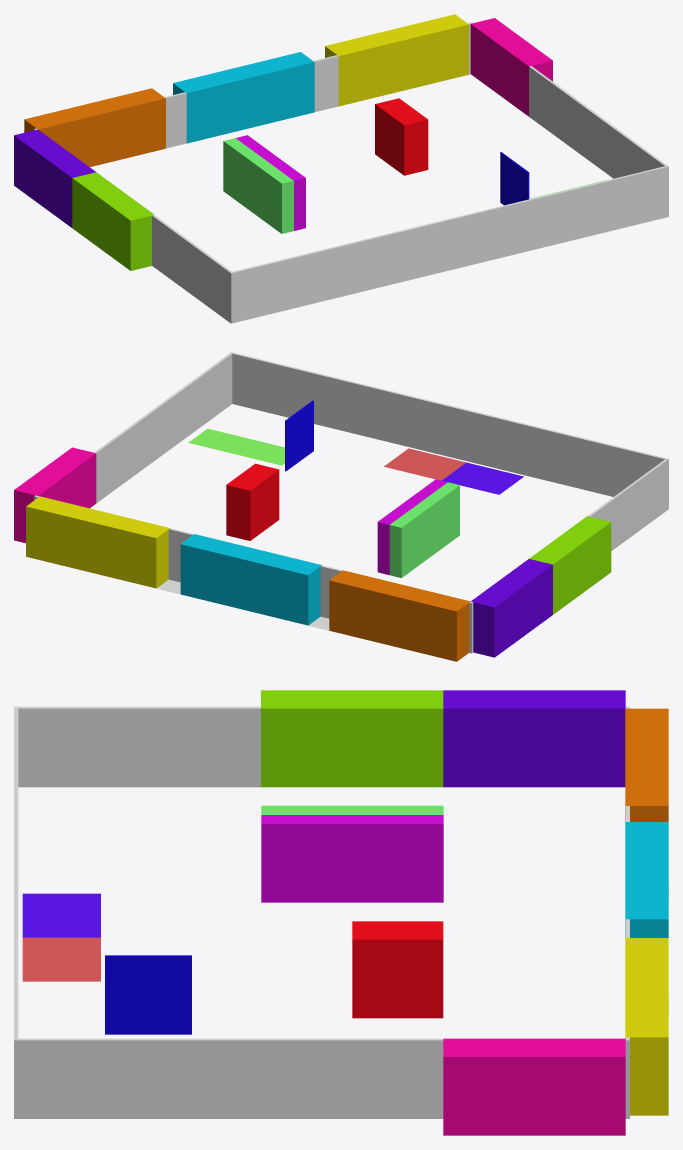
File: shop.dae
The picture shows the model from 3 angles, top to bottom: view 1: azimuth 30°, elevation 25°; view 2: azimuth 150°, elevation 25°; view 3: azimuth 270°, elevation 25°; orthographic projection. The views are drawn at different scales.
Visible parts, largest first — view 1: wall_south, section_vegetable, section_seafood, sectinon_meat, wall_east, section_electronics, wc, section_snacks, wall_west, section_refriger, section_beverage, wall_north (+2 smaller); view 2: wall_south, section_vegetable, sectinon_meat, section_seafood, wall_east, section_snacks, section_electronics, section_refriger, wc, wall_west, section_beverage, pinky_wait_section (+4 smaller); view 3: wall_east, wall_west, wc, section_electronics, section_snacks, section_frizer, section_beverage, section_vegetable, pinky_wait_section, divider, section_seafood, sectinon_meat (+2 smaller).
Boxes of the visible parts, left/top/right/bottom form: wall_south: left=232, top=166, right=666, bottom=322; section_vegetable: left=325, top=14, right=468, bottom=106; section_seafood: left=173, top=52, right=314, bottom=143; sectinon_meat: left=24, top=88, right=165, bottom=166; wall_east: left=469, top=22, right=668, bottom=217; section_electronics: left=72, top=172, right=154, bottom=270; wc: left=470, top=18, right=552, bottom=116; section_snacks: left=14, top=129, right=95, bottom=227; wall_west: left=34, top=128, right=233, bottom=323; section_refriger: left=223, top=138, right=293, bottom=233; section_beverage: left=375, top=98, right=428, bottom=175; wall_north: left=164, top=23, right=470, bottom=148; wall_south: left=232, top=353, right=665, bottom=496; section_vegetable: left=26, top=496, right=169, bottom=588; sectinon_meat: left=329, top=570, right=470, bottom=661; section_seafood: left=180, top=534, right=321, bottom=625; wall_east: left=34, top=352, right=233, bottom=503; section_snacks: left=471, top=559, right=552, bottom=657; section_electronics: left=529, top=516, right=611, bottom=614; section_refriger: left=389, top=482, right=459, bottom=577; wc: left=14, top=447, right=96, bottom=543; wall_west: left=469, top=458, right=668, bottom=653; section_beverage: left=226, top=463, right=279, bottom=540; pinky_wait_section: left=384, top=448, right=523, bottom=494; wall_east: left=14, top=1038, right=629, bottom=1118; wall_west: left=14, top=706, right=629, bottom=787; wc: left=443, top=1038, right=625, bottom=1135; section_electronics: left=261, top=690, right=443, bottom=787; section_snacks: left=443, top=690, right=625, bottom=787; section_frizer: left=261, top=815, right=443, bottom=902; section_beverage: left=352, top=921, right=443, bottom=1018; section_vegetable: left=625, top=938, right=668, bottom=1115; pinky_wait_section: left=22, top=893, right=100, bottom=981; divider: left=105, top=955, right=191, bottom=1034; section_seafood: left=625, top=822, right=668, bottom=937; sectinon_meat: left=625, top=708, right=668, bottom=821.
Size of the model in its own units: 1.99 by 1.51 by 0.1996.
